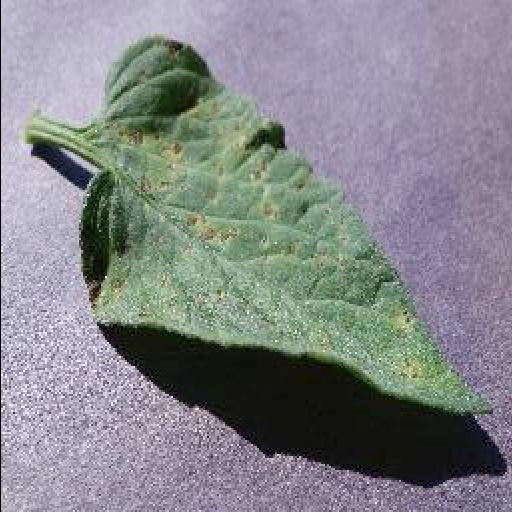disease_tomato: (80, 34, 494, 416)
